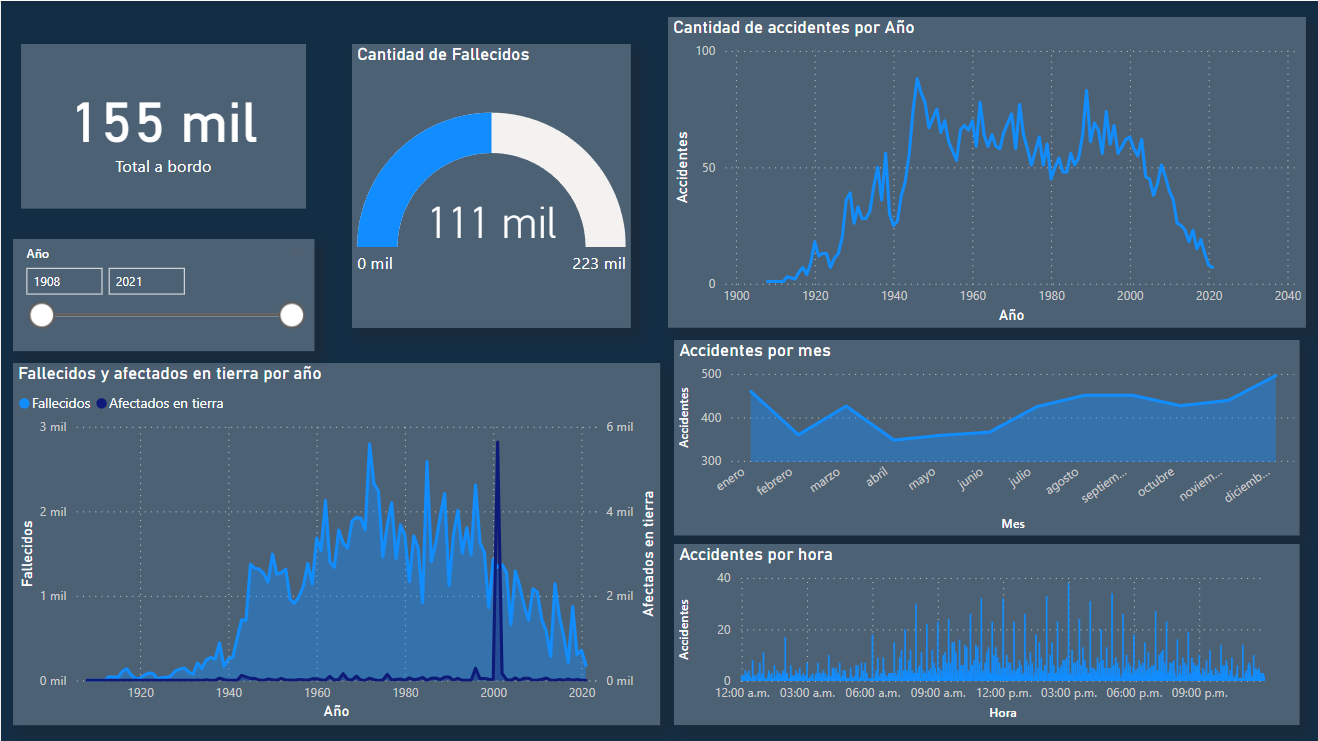

The dashboard page shown, as its layout file describes it:
{"tool":"powerbi","page":{"name":"General","canvas":[1280,720],"ordinal":1},"visuals":[{"type":"areaChart","title":"Fallecidos y afectados en tierra por año","fields":{"Category":["accidente_limpio2.Fecha.Variación.Jerarquía de fechas.Año"],"Y":["Sum(accidente_limpio2.Fallecidos)"],"Y2":["Sum(accidente_limpio2.Afectados en tierra)"]},"box":[11.7,351.8,628.8,351.8],"z":0},{"type":"slicer","fields":{"Values":["accidente_limpio2.Año"]},"box":[11.7,231.3,292.5,108.9],"z":1000},{"type":"card","fields":{"Values":["Sum(accidente_limpio2.Todos a bordo)"]},"box":[19.4,41.8,277,160.4],"z":2000},{"type":"gauge","fields":{"Y":["Sum(accidente_limpio2.Fallecidos)"]},"box":[341.1,41.8,271.2,276],"z":3000},{"type":"lineChart","title":"Cantidad de accidentes por Año","fields":{"Category":["accidente_limpio2.Año"],"Y":["accidente_limpio2.Conteo de Accidentes por Ruta"]},"box":[648.3,15.6,620.1,302.3],"z":4000},{"type":"stackedAreaChart","title":"Accidentes por mes ","fields":{"Category":["accidente_limpio2.Fecha.Variación.Jerarquía de fechas.Mes"],"Y":["accidente_limpio2.Conteo de Accidentes por Ruta"]},"box":[654.1,329.5,608.4,190.5],"z":5000},{"type":"lineStackedColumnComboChart","title":" Accidentes por hora","fields":{"Category":["accidente_limpio2.Hora"],"Y":["accidente_limpio2.Conteo de Accidentes por Ruta"]},"box":[654.1,527.7,608.4,175.9],"z":6000}]}

Visuals, with their boxes in screenshot pixels (x1, y1, x2, y2), scaled from the page's 1280x720 canvas onto the 1318x741 screenshot:
"Fallecidos y afectados en tierra por año" areaChart: Rect(12, 362, 660, 724)
slicer - accidente_limpio2.Año: Rect(12, 238, 313, 350)
card - Sum(accidente_limpio2.Todos a bordo): Rect(20, 43, 305, 208)
gauge - Sum(accidente_limpio2.Fallecidos): Rect(351, 43, 630, 327)
"Cantidad de accidentes por Año" lineChart: Rect(668, 16, 1306, 327)
"Accidentes por mes " stackedAreaChart: Rect(674, 339, 1300, 535)
" Accidentes por hora" lineStackedColumnComboChart: Rect(674, 543, 1300, 724)
